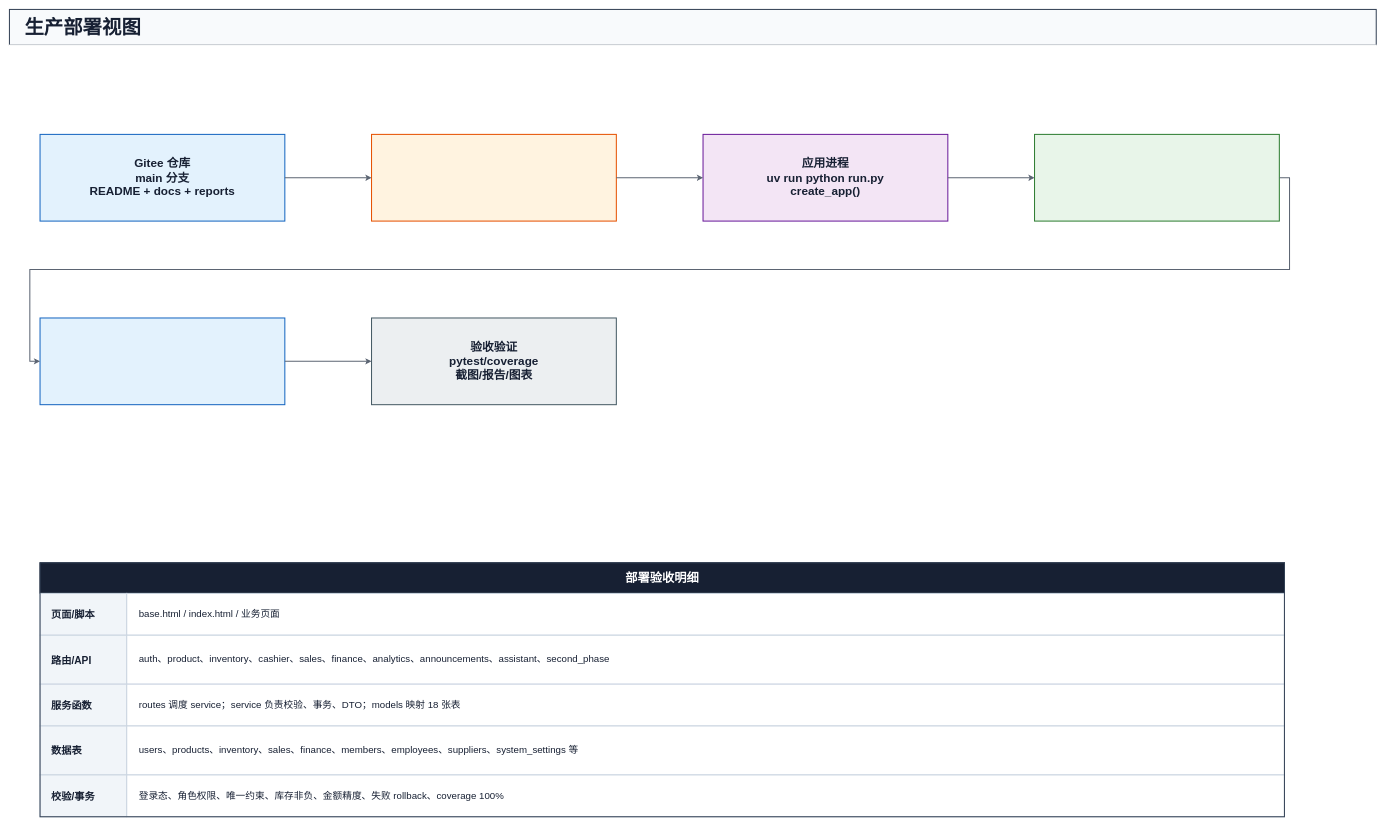
The diagram is 1385 pixels wide and 826 high, and some of its shapes have lost their labels. Each missing label, with the centre of its shape:
"SQLite 数据 schema.sql seed_data.sql" goes at point (1157, 177).
"浏览器访问 /login 业务页面" goes at point (162, 361).
"部署主机 Windows/Linux uv + Python 3.13" goes at point (494, 177).
"部署图｜运行环境、初始化、验证、交付" goes at point (692, 55).
